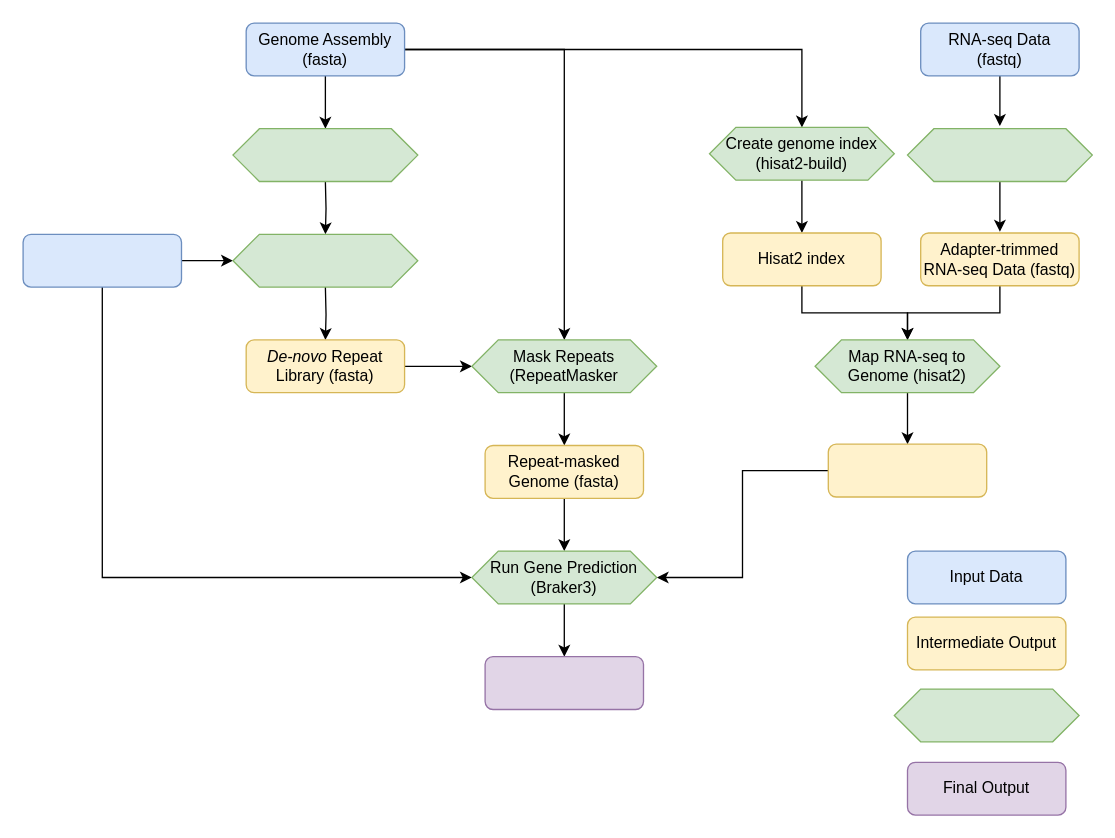
This 1115x838 diagram has some shape labels left out. Each missing label, with the box of its shape:
Action and Software: (893, 688, 1079, 742)
De-novo gene predictions (gff3): (484, 655, 644, 710)
Filter repeats (transposonPSI): (232, 233, 418, 287)
Find de-novo repeats (RepeatModeler): (232, 127, 418, 182)
Mapped reads (bam): (827, 443, 987, 497)
Remove Adapters (trim_galore): (906, 127, 1092, 182)
SwissProt Sequences (fasta): (22, 233, 182, 287)
